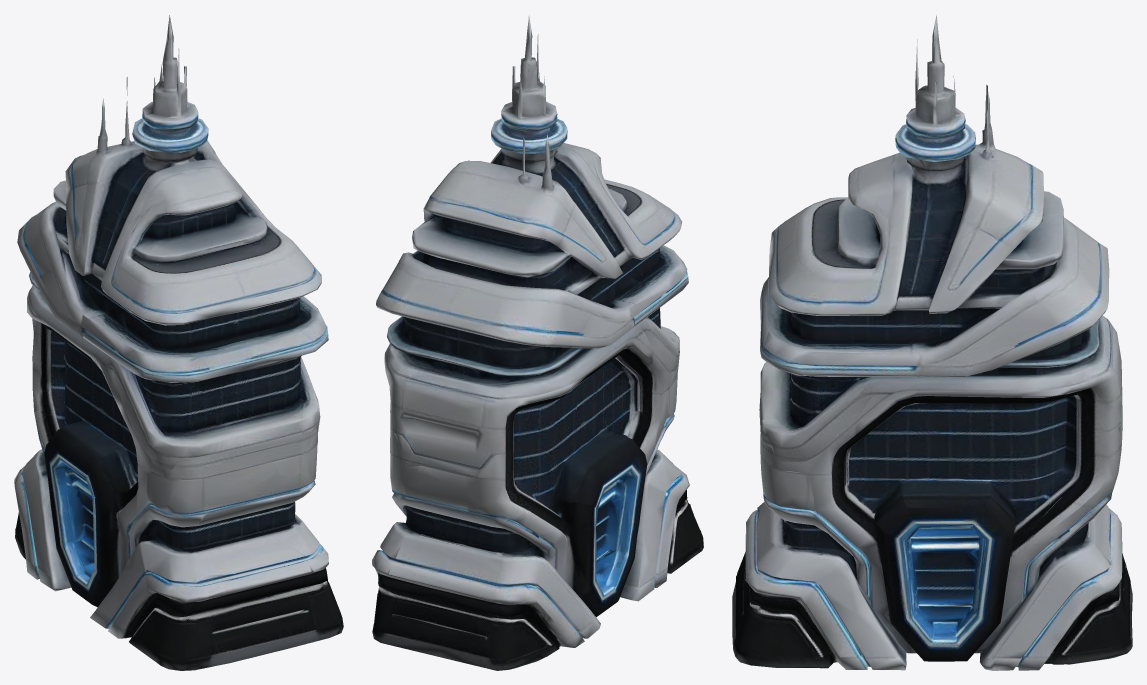
The model's file is building_office.glb.
3 views of the same model, side by side, from view 1: azimuth 30°, elevation 25°; view 2: azimuth 150°, elevation 25°; view 3: azimuth 270°, elevation 25° (orthographic). The views are drawn at different scales.
Parts seen in each view (by area): view 1: tripo_node_1c33acf6-2282-4f59-ae35-b16ec4f4fb28; view 2: tripo_node_1c33acf6-2282-4f59-ae35-b16ec4f4fb28; view 3: tripo_node_1c33acf6-2282-4f59-ae35-b16ec4f4fb28.
Boxes of the visible parts, x1,y1,x2,y2 form: tripo_node_1c33acf6-2282-4f59-ae35-b16ec4f4fb28: (14,15,343,670); tripo_node_1c33acf6-2282-4f59-ae35-b16ec4f4fb28: (372,15,703,670); tripo_node_1c33acf6-2282-4f59-ae35-b16ec4f4fb28: (732,15,1132,670).
Size of the model in its own units: 0.3497 by 0.9734 by 0.581.
1 material, 1 textured.
